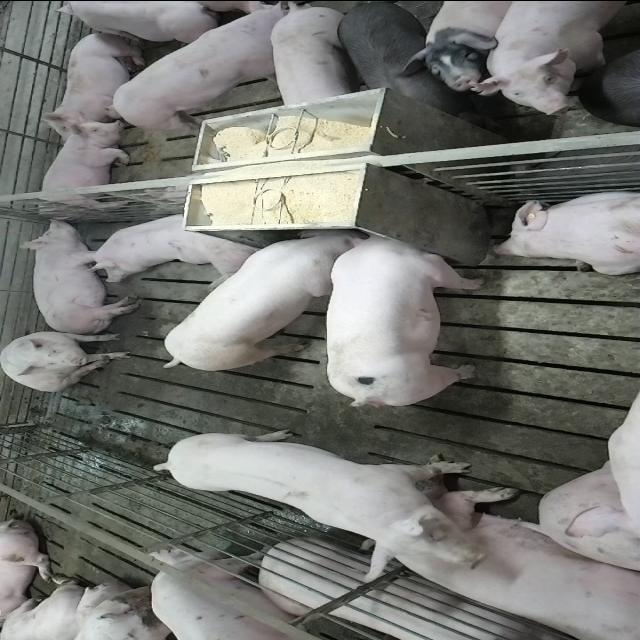Feeding: (160, 228, 362, 376), (323, 230, 485, 412)
Lateral_lying: (16, 215, 142, 334)
Sitting: (1, 328, 134, 391)
Standing: (158, 428, 490, 586), (106, 4, 300, 132), (464, 2, 640, 118), (151, 546, 352, 640), (335, 2, 483, 120), (401, 0, 526, 89), (270, 5, 352, 110), (600, 1, 640, 126)
Sternal_lying: (372, 492, 634, 640), (69, 207, 259, 279), (490, 188, 640, 274), (40, 28, 154, 134), (35, 124, 134, 216)
